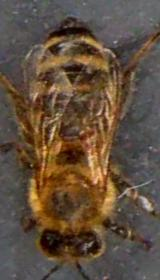varroa_mite: (76, 122, 102, 150)
